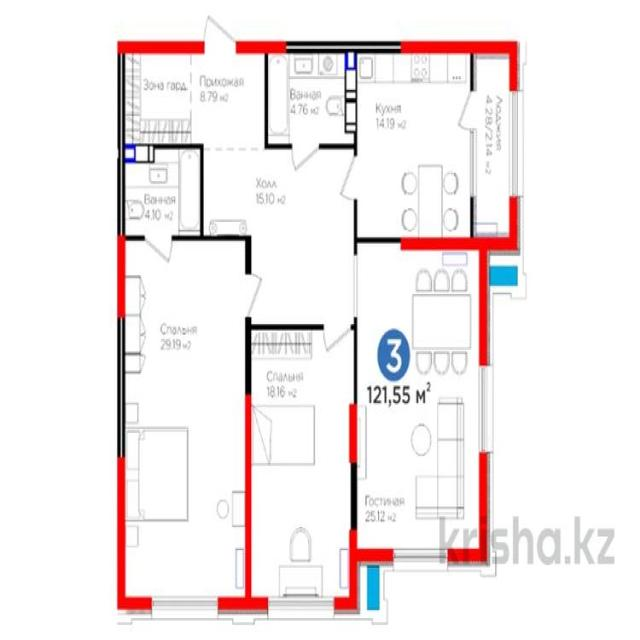balcony: (474, 52, 514, 239)
bathroom: (268, 56, 354, 142), (121, 146, 199, 234)
hallway: (206, 150, 353, 235), (195, 54, 265, 145)
kitchen: (360, 52, 470, 235)
living_room: (121, 242, 247, 599), (357, 245, 482, 551), (248, 332, 350, 596)
other: (123, 49, 190, 141)
